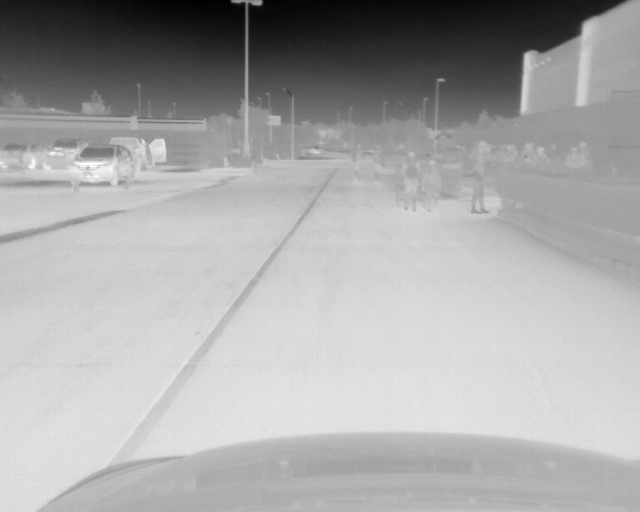car: (65, 144, 133, 186), (106, 136, 168, 170), (1, 141, 48, 170), (47, 137, 88, 168), (307, 146, 322, 155)
people: (466, 138, 491, 213), (352, 151, 381, 211), (420, 157, 444, 212), (402, 151, 422, 212), (518, 140, 536, 167), (576, 141, 591, 169), (499, 141, 517, 164), (535, 146, 550, 164), (566, 147, 578, 169)
